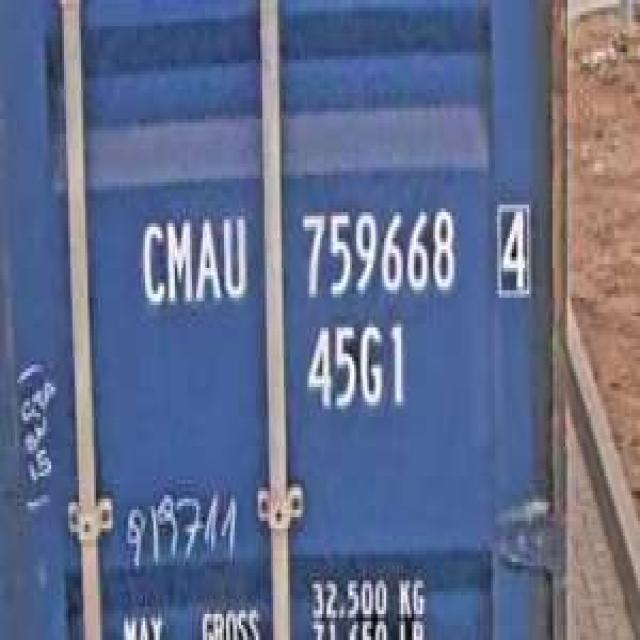dv: (488, 194, 536, 305)
owner: (134, 205, 252, 316)
serial: (292, 197, 461, 305)
size: (298, 312, 412, 420)
